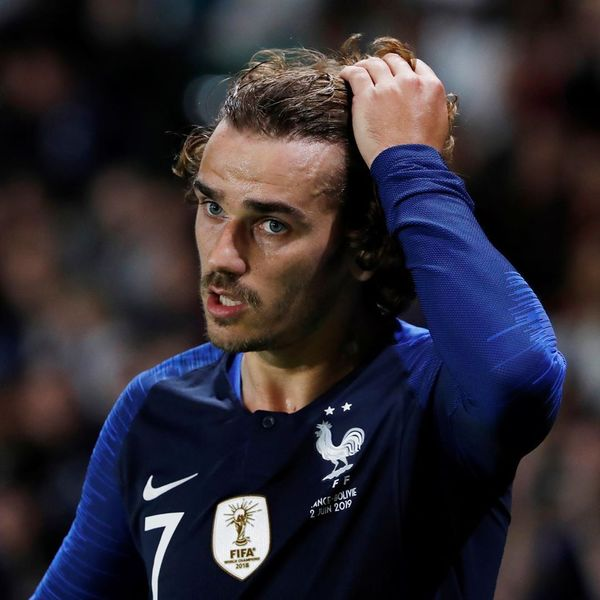nike: (140, 467, 200, 502)
